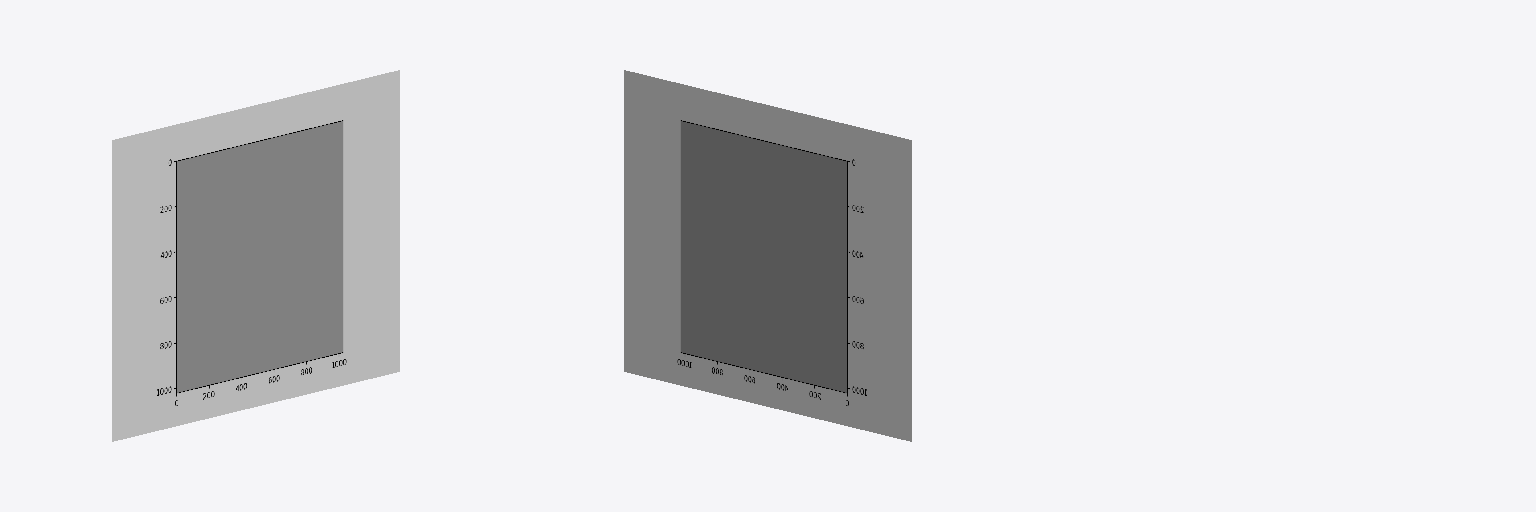
3 renders of one model, left to right at view 1: azimuth 30°, elevation 25°; view 2: azimuth 150°, elevation 25°; view 3: azimuth 270°, elevation 25°, orthographic.
Parts seen in each view (by area): view 1: Plane; view 2: Plane; view 3: none.
Boxes of the visible parts, box(x1,y1,x2,y2) form: Plane: box(112, 70, 399, 441); Plane: box(624, 70, 911, 441).
Bounding box in the file's own units: 16.35 × 16.35 × 0.
Materials: 1 (1 with a texture image).